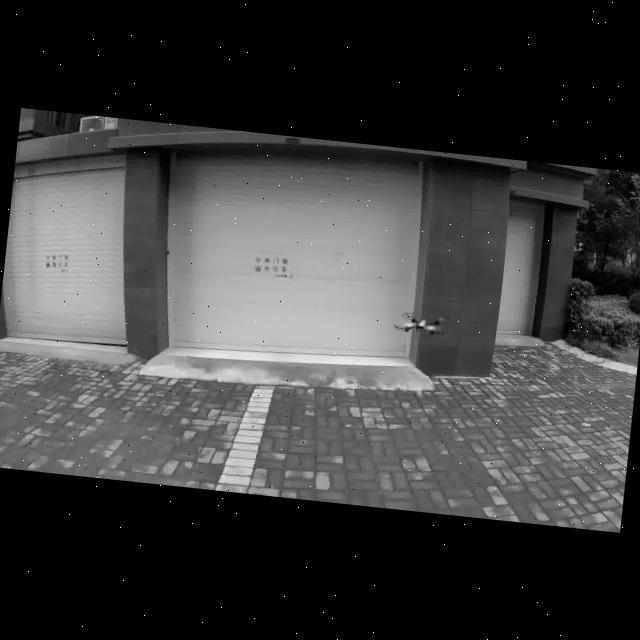Drons: (392, 306, 430, 336)
